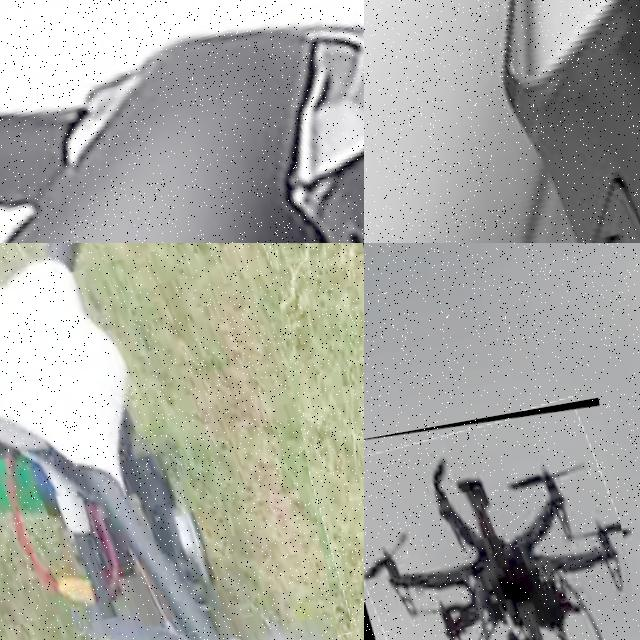0: (0, 243, 342, 640), (364, 397, 640, 640)
drone: (0, 0, 364, 243), (364, 0, 640, 243)
